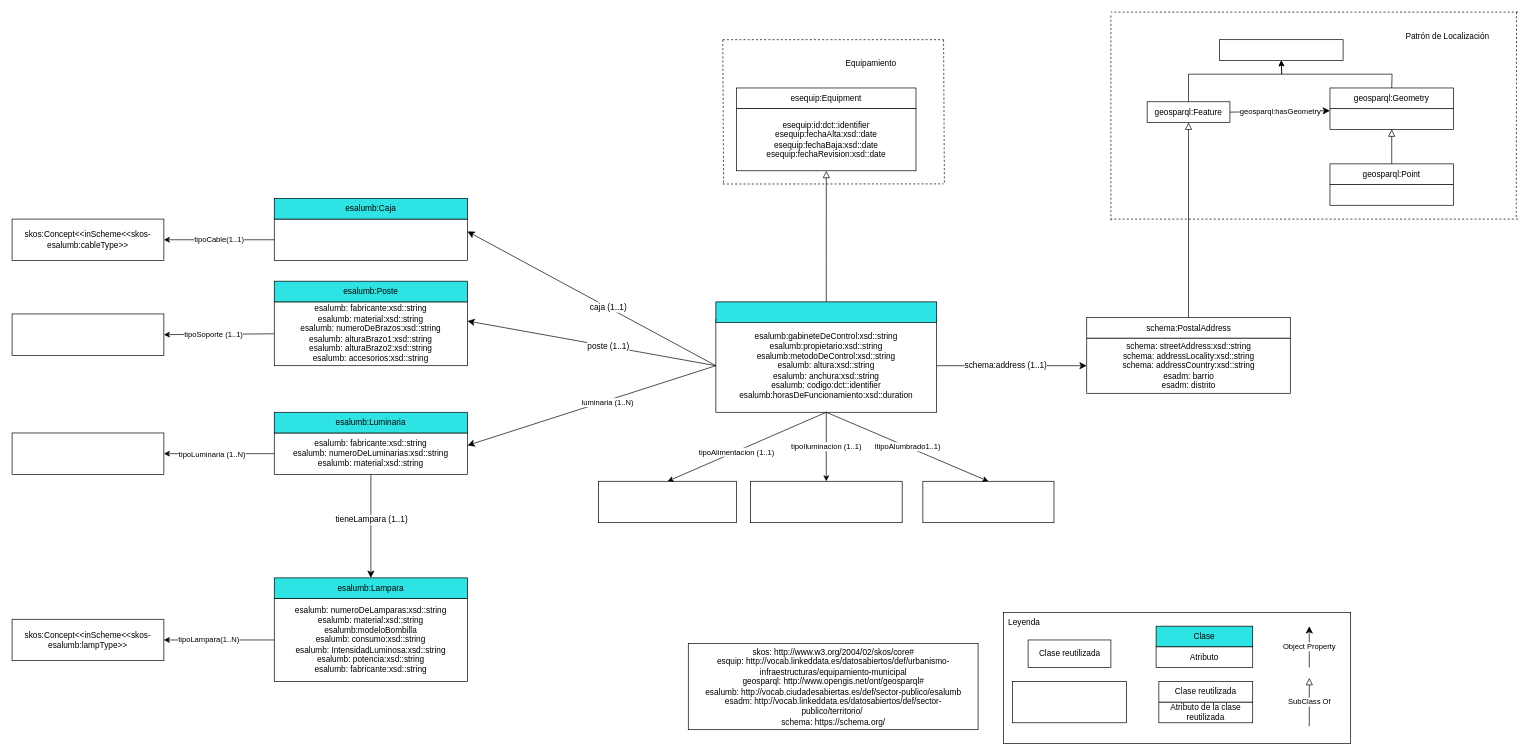
The diagram is 1531 pixels wide and 756 high, and some of its shapes have lost their labels. The shapes that lost their labels are listed below. From the top down, each one's centre as x and y in pixels, then its label:
point 1281,49: geosparql:SpatialObject
point 1391,118: geosparql:asWKT ::WKTLiteral
point 1391,194: geo:Latitude geo:Longitude
point 370,239: esalumb: fabricante:xsd::string esalumb: material:xsd::string
point 826,312: esalumb:streetlight
point 87,334: skos:Concept<<inScheme<<skos-esalumb:holderType>>
point 87,453: skos:Concept<<inScheme<<skos-esalumb:luminaryType>>
point 667,502: skos:Concept<<inScheme<<skos-esalumb:tipoAlimentacion>>
point 826,502: skos:Concept<<inScheme<<skos-esalumb:tipoIluminacion>>
point 988,502: skos:Concept<<inScheme <<skos-esalumb:tipoAlumbrado>>
point 1069,702: skos:Concept <<inScheme schemename>>
